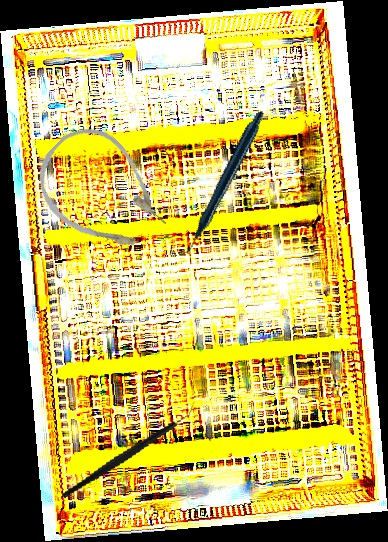Cannula: (20, 111, 184, 275)
Chopper: (48, 400, 210, 499)
Handpiece: (137, 110, 304, 257)
